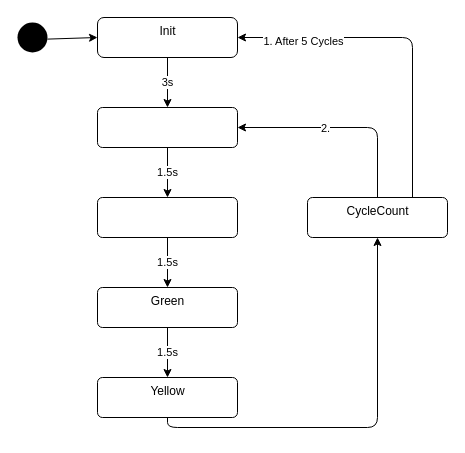
Some shapes in this 465 by 453 pixel diagram are drawn without their labels. Here are the shapes that lost their labels. From the top down, the centre of each, then its label:
At (167,127): "Red".
At (167,217): "RedYellow".
